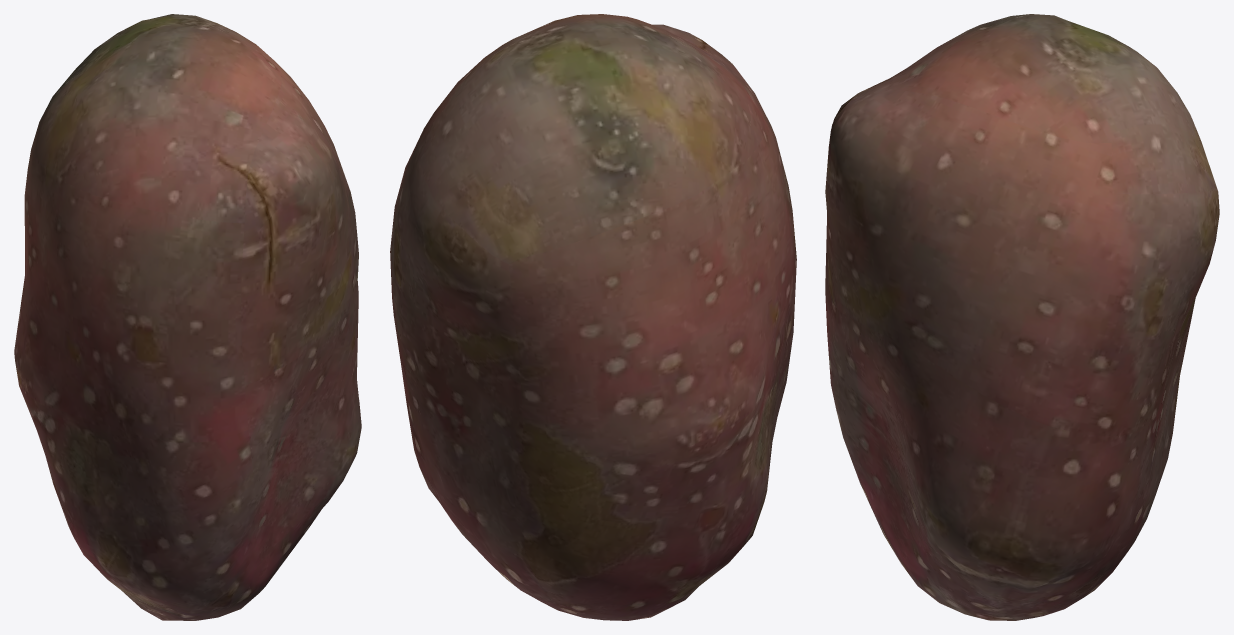
The model's file is sweet_potato.glb.
3 views of the same model, side by side, from view 1: azimuth 30°, elevation 25°; view 2: azimuth 150°, elevation 25°; view 3: azimuth 270°, elevation 25° (orthographic). The views are drawn at different scales.
Visible parts, largest first — view 1: sweet_potato; view 2: sweet_potato; view 3: sweet_potato.
Boxes of the visible parts, box(x1,y1,x2,y2) form: sweet_potato: box(14, 14, 361, 620); sweet_potato: box(390, 14, 796, 620); sweet_potato: box(825, 14, 1219, 620).
Bounding box in the file's own units: 0.0581 × 0.1005 × 0.061.
1 material, 1 textured.
